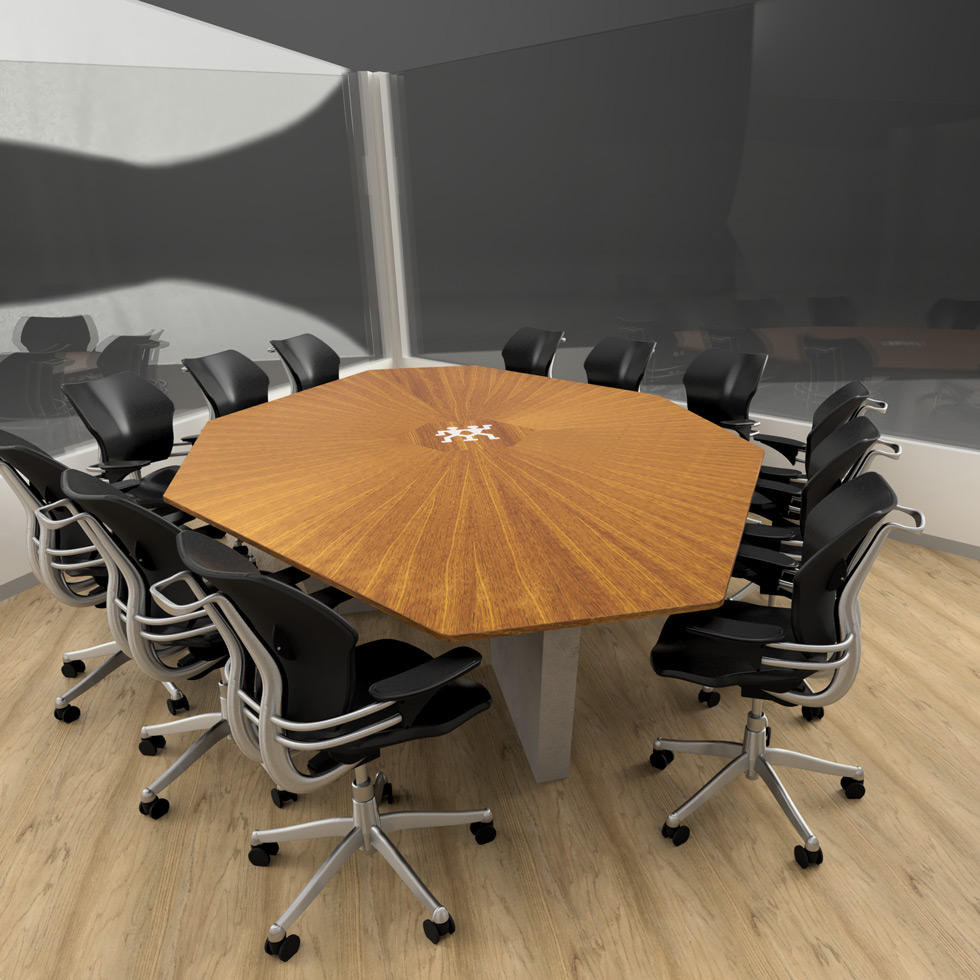conference_table: (162, 366, 764, 785)
